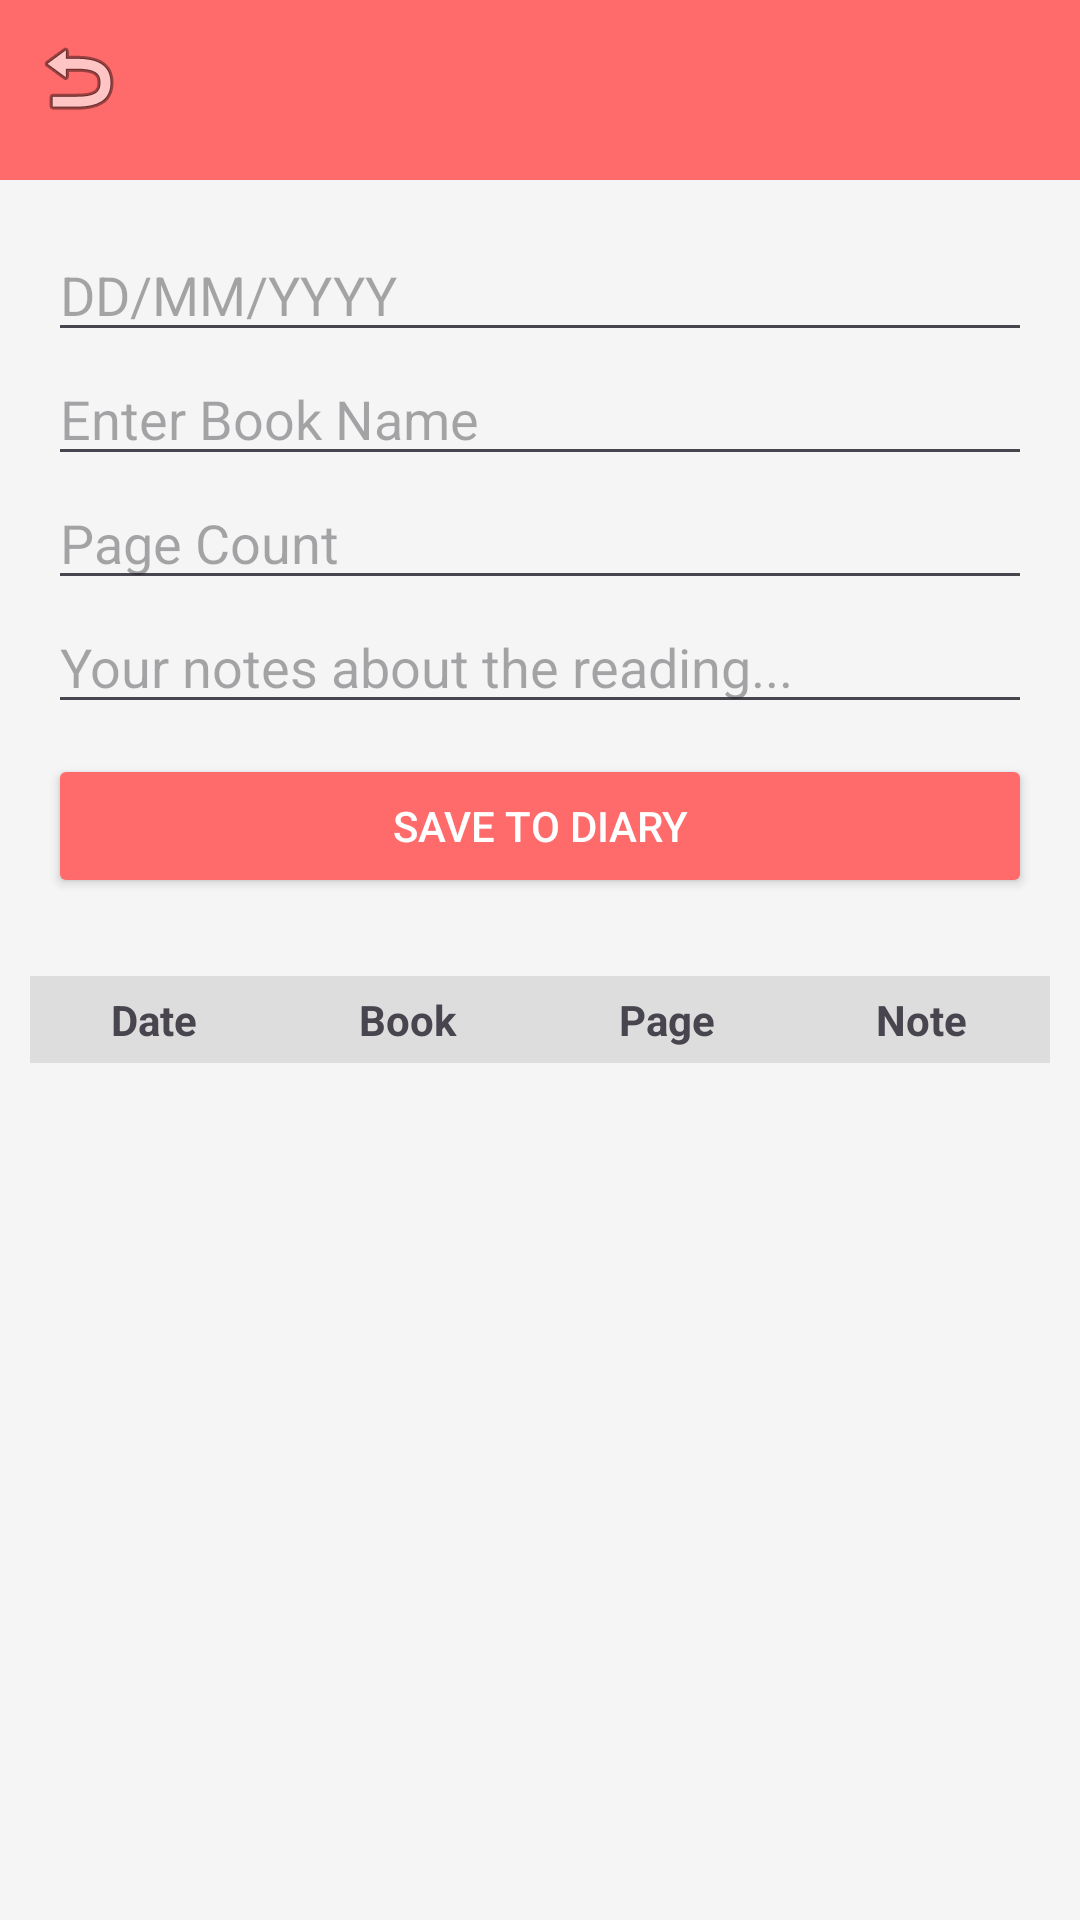

Icons on this 1080px x 1920px Android screen, each with its box as (x1, y1, x2, y2):
revert: (45, 47, 114, 110)
